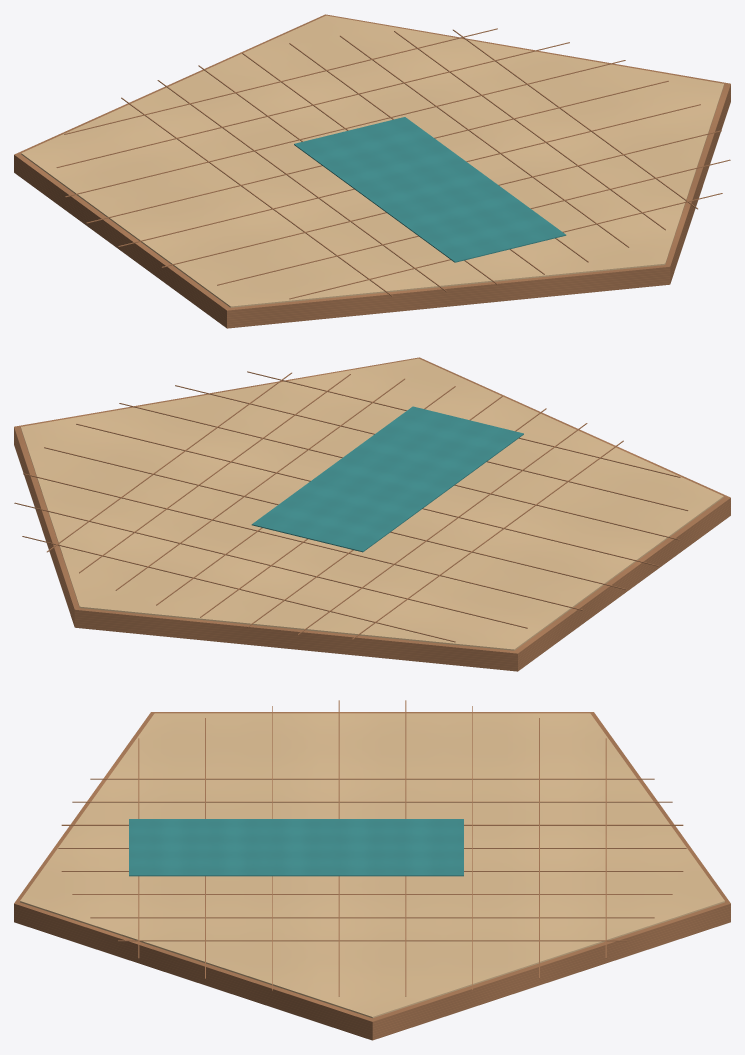
File: atlas100-s091-a07.lod1.glb
3 renders of one model, top to bottom at view 1: azimuth 30°, elevation 25°; view 2: azimuth 150°, elevation 25°; view 3: azimuth 270°, elevation 25°, orthographic. The views are drawn at different scales.
Parts seen in each view (by area): view 1: atlas100-s091-a07:part-001, atlas100-s091-a07:part-000, atlas100-s091-a07:part-021, atlas100-s091-a07:part-015, atlas100-s091-a07:part-014, atlas100-s091-a07:part-016, atlas100-s091-a07:part-017, atlas100-s091-a07:part-018, atlas100-s091-a07:part-013, atlas100-s091-a07:part-019, atlas100-s091-a07:part-005, atlas100-s091-a07:part-009 (+3 smaller); view 2: atlas100-s091-a07:part-001, atlas100-s091-a07:part-000, atlas100-s091-a07:part-021, atlas100-s091-a07:part-015, atlas100-s091-a07:part-014, atlas100-s091-a07:part-017, atlas100-s091-a07:part-016, atlas100-s091-a07:part-018, atlas100-s091-a07:part-013, atlas100-s091-a07:part-019, atlas100-s091-a07:part-005, atlas100-s091-a07:part-009 (+3 smaller); view 3: atlas100-s091-a07:part-001, atlas100-s091-a07:part-021, atlas100-s091-a07:part-000, atlas100-s091-a07:part-005, atlas100-s091-a07:part-004, atlas100-s091-a07:part-010, atlas100-s091-a07:part-011, atlas100-s091-a07:part-009, atlas100-s091-a07:part-006.
Boxes of the visible parts, box(x1,y1,x2,y2) form: atlas100-s091-a07:part-001: box(21, 15, 724, 307); atlas100-s091-a07:part-000: box(14, 14, 730, 328); atlas100-s091-a07:part-021: box(294, 117, 566, 262); atlas100-s091-a07:part-015: box(65, 60, 625, 197); atlas100-s091-a07:part-014: box(56, 42, 569, 167); atlas100-s091-a07:part-016: box(86, 80, 668, 223); atlas100-s091-a07:part-017: box(118, 104, 700, 246); atlas100-s091-a07:part-018: box(161, 130, 721, 267); atlas100-s091-a07:part-013: box(64, 28, 497, 134); atlas100-s091-a07:part-019: box(217, 159, 730, 285); atlas100-s091-a07:part-005: box(157, 80, 447, 291); atlas100-s091-a07:part-009: box(340, 35, 629, 247); atlas100-s091-a07:part-001: box(20, 358, 723, 650); atlas100-s091-a07:part-000: box(14, 357, 730, 671); atlas100-s091-a07:part-021: box(251, 406, 523, 552); atlas100-s091-a07:part-015: box(23, 473, 583, 610); atlas100-s091-a07:part-014: box(14, 502, 527, 628); atlas100-s091-a07:part-017: box(76, 423, 658, 566); atlas100-s091-a07:part-016: box(44, 447, 626, 589); atlas100-s091-a07:part-018: box(119, 403, 679, 540); atlas100-s091-a07:part-013: box(22, 536, 455, 642); atlas100-s091-a07:part-019: box(175, 385, 688, 510); atlas100-s091-a07:part-005: box(297, 423, 587, 634); atlas100-s091-a07:part-009: box(115, 378, 404, 590); atlas100-s091-a07:part-001: box(20, 713, 724, 1018); atlas100-s091-a07:part-021: box(129, 819, 463, 876); atlas100-s091-a07:part-000: box(14, 712, 730, 1040); atlas100-s091-a07:part-005: box(72, 801, 672, 802); atlas100-s091-a07:part-004: box(90, 778, 654, 779); atlas100-s091-a07:part-010: box(90, 917, 654, 918); atlas100-s091-a07:part-011: box(118, 940, 626, 941); atlas100-s091-a07:part-009: box(72, 894, 672, 894); atlas100-s091-a07:part-006: box(61, 824, 683, 825).
Bounding box in the file's own units: 12.43 × 0.404 × 11.81.
Materials: 3 (3 with a texture image).
